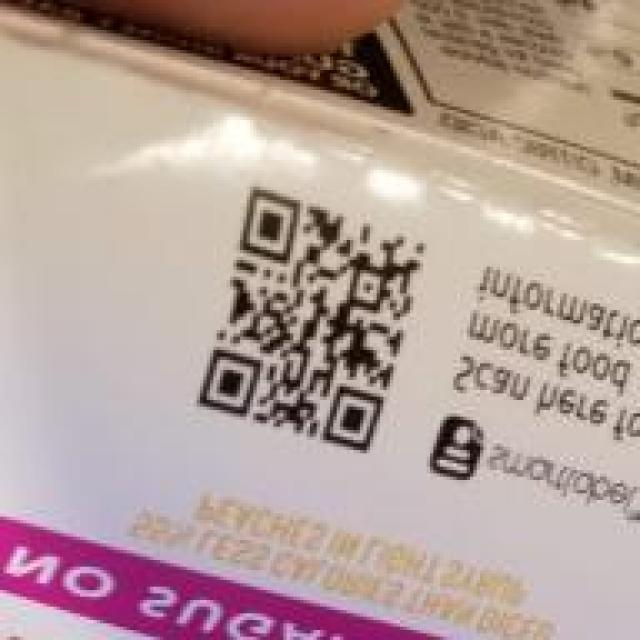QR_CODE: (184, 175, 438, 467)
